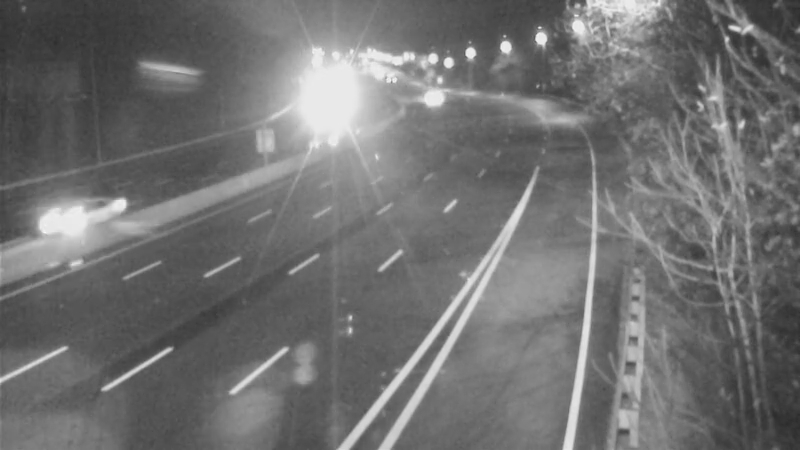vehicle: (23, 177, 103, 257), (363, 56, 413, 106), (401, 73, 451, 123)
